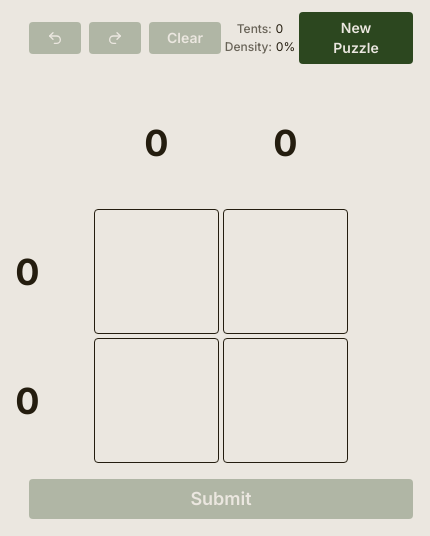
it: BuildGrid › places a tree on the first click on a blank cell
The image size is (430, 536).
Click the element named "row 1, column 1" at (156, 272), box [94,209,219,334]
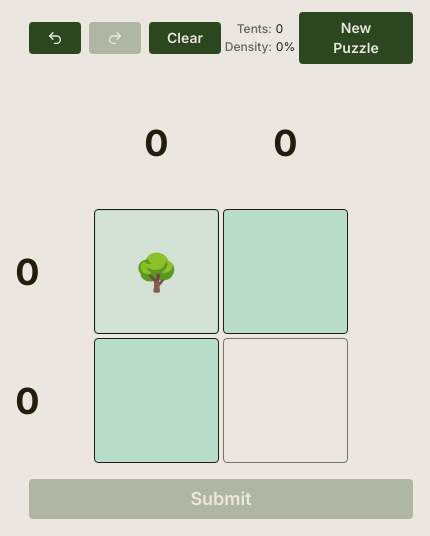
Expected: the element named "row 1, column 2" is empty, [223,209,348,334]
Expected: the text named "row 1, column 1" reads "🌳", [134,250,179,294]
